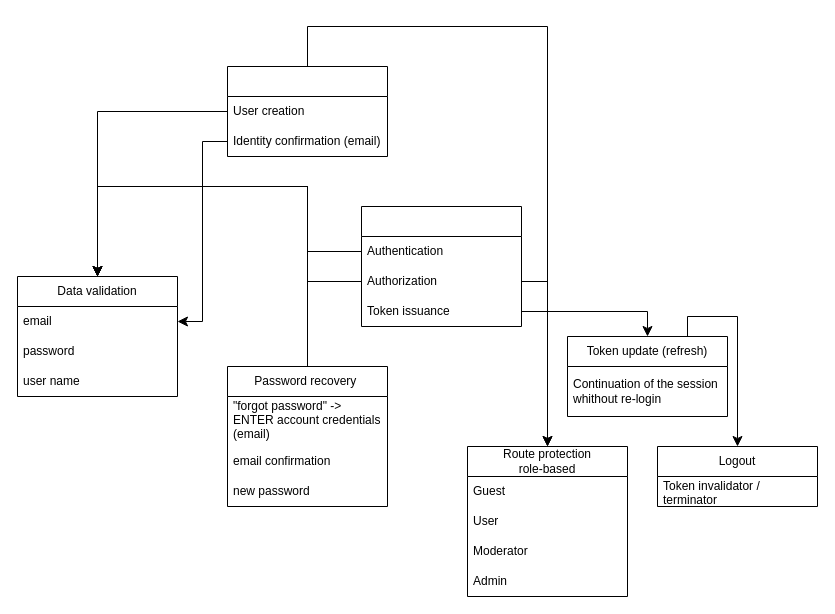
This 835x614 diagram has some shape labels left out. The shapes that lost their labels are listed below. From the top down, each one's box as (x1, y1, x2, y2) in pixels, then its label:
(226, 66, 388, 156): Registration
(360, 206, 522, 326): Login
